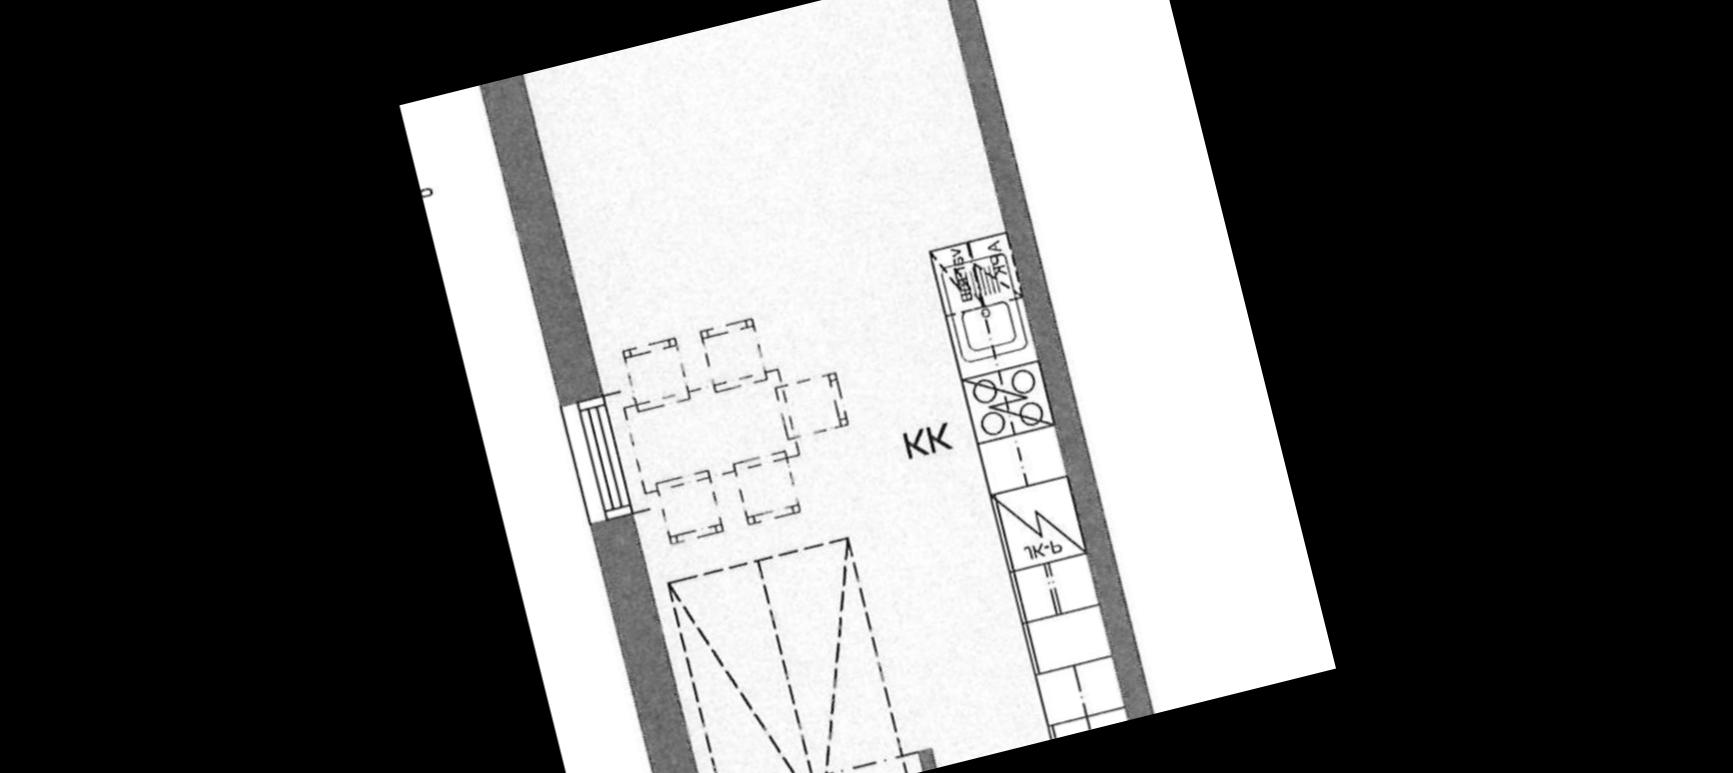window: (548, 383, 645, 536)
